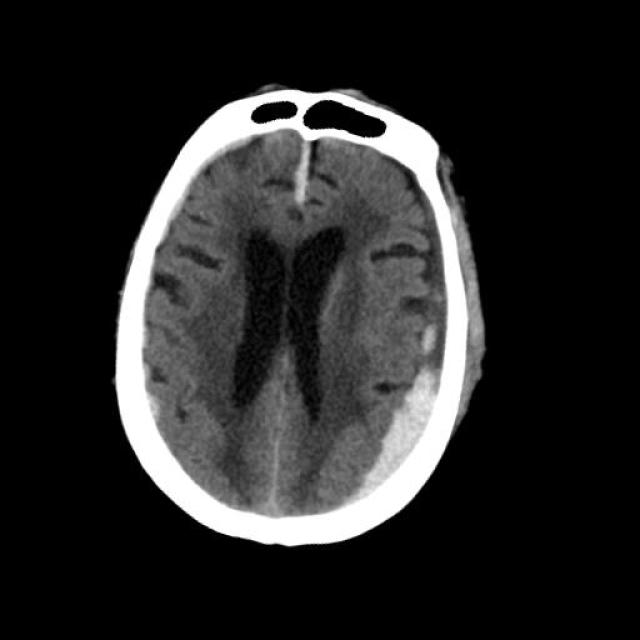Subdural: (70, 96, 265, 427), (337, 279, 469, 520), (261, 92, 349, 228)
